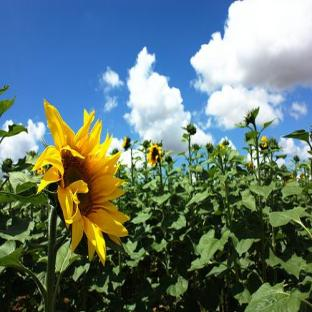sunflower: (27, 99, 131, 312)
